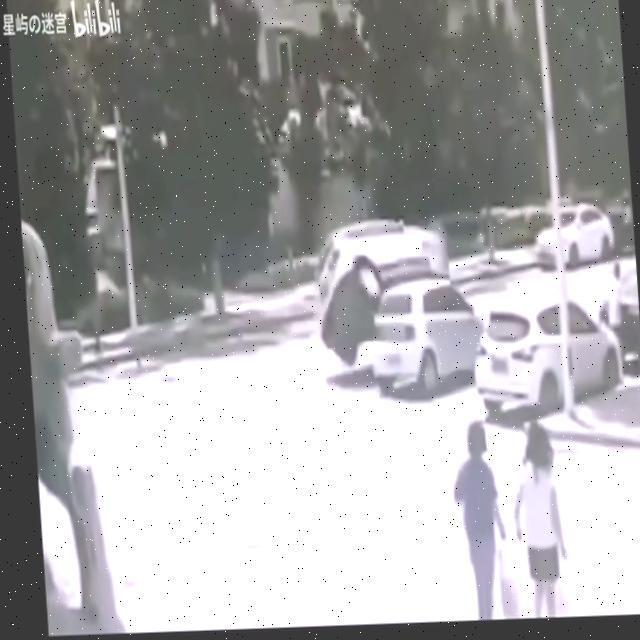multiple_accident: (311, 193, 453, 390)
normal: (491, 296, 593, 400), (543, 170, 604, 281)
